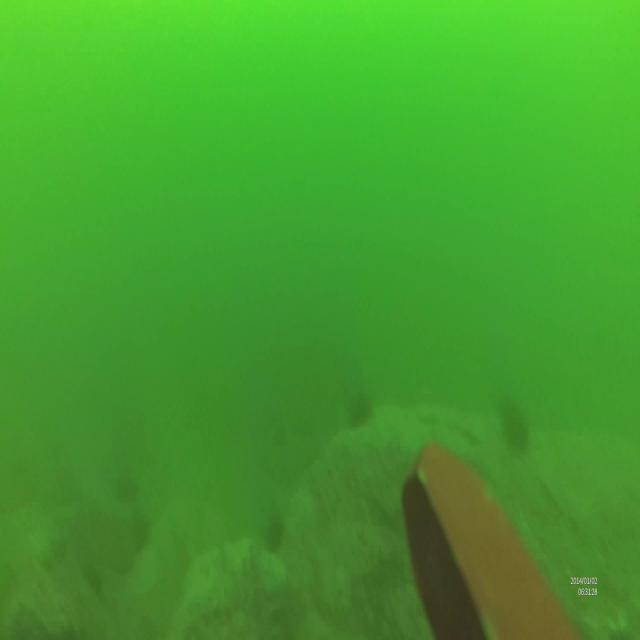echinus: (501, 396, 531, 457), (347, 387, 373, 433), (262, 510, 285, 554)
